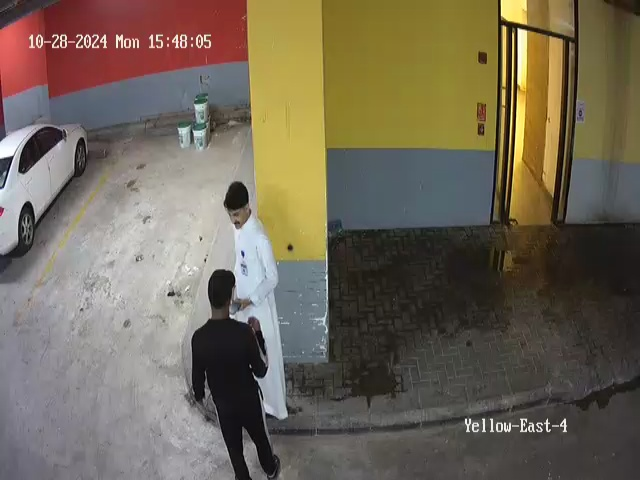male: (190, 269, 284, 480), (222, 181, 288, 422)
